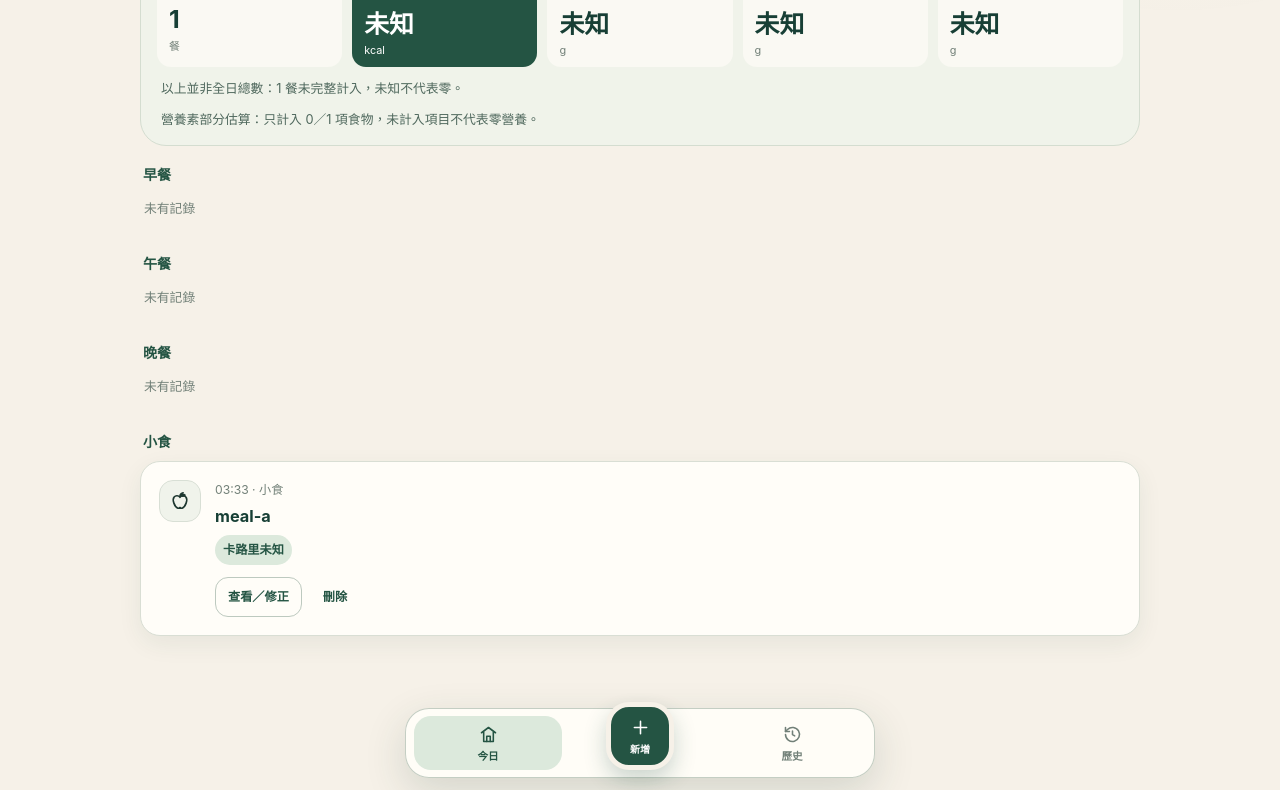
Test case: rejects a pre-delete refresh snapshot and follows up with the current snapshot
The image size is (1280, 790).
(page scrolled)
expect the heading "meal-a" is shown: met, box [215,506,271,526]
Click the button "刪除". click: (335, 598)
box: [310,578,360,618]
(page scrolled)
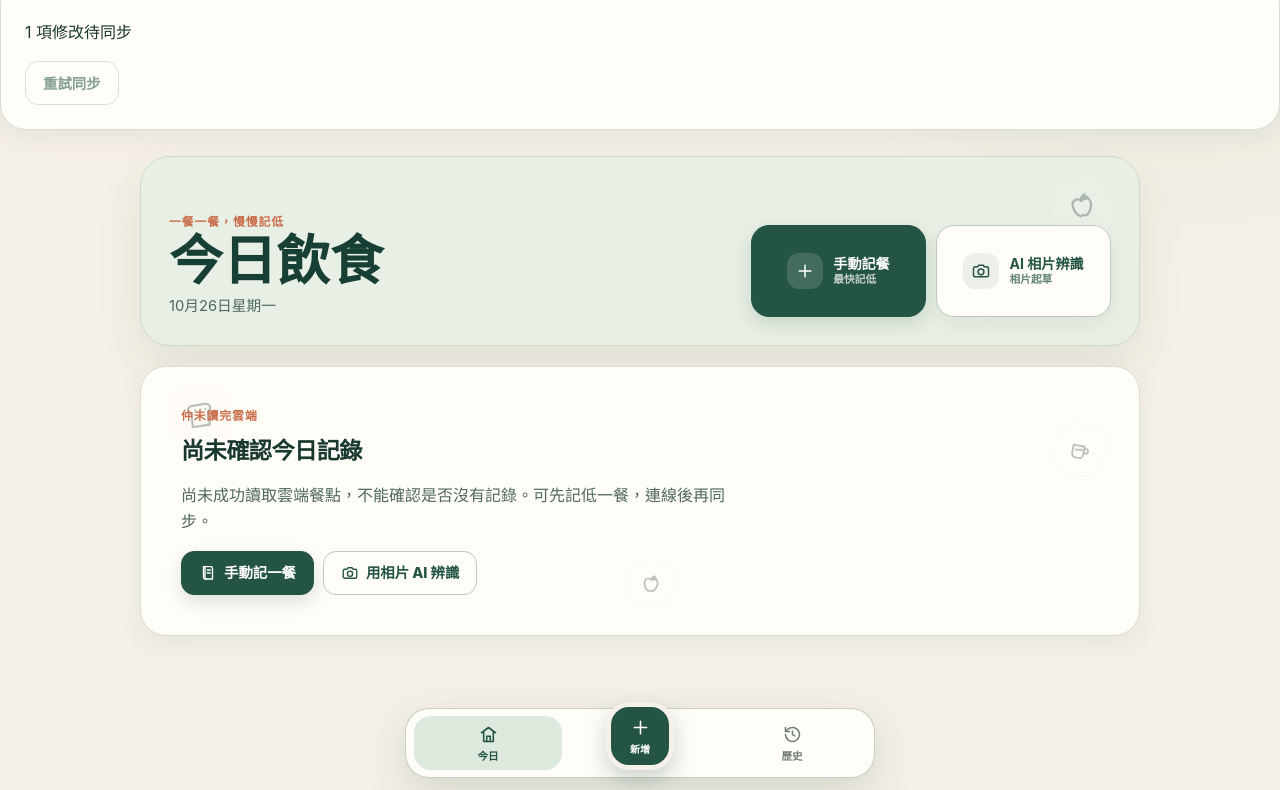
expect the heading "meal-a" is gone: met
expect the text "1 項修改待同步" is shown: met, box [25,22,132,42]
